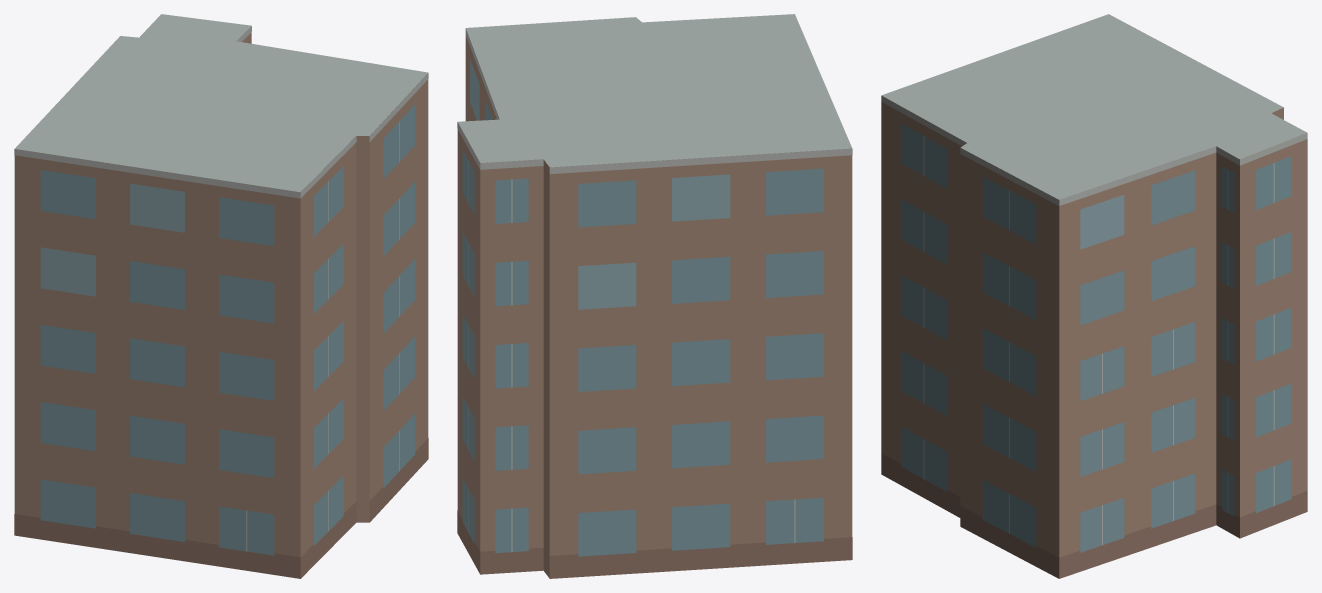
Rendered from survey-upis-32528450.glb.
3 views of the same model, side by side, from view 1: azimuth 30°, elevation 25°; view 2: azimuth 150°, elevation 25°; view 3: azimuth 270°, elevation 25° (orthographic). The views are drawn at different scales.
Visible parts, largest first — view 1: survey-upis-32528450.tmp; view 2: survey-upis-32528450.tmp; view 3: survey-upis-32528450.tmp.
Boxes of the visible parts, x1,y1,x2,y2 form: survey-upis-32528450.tmp: (14, 14, 428, 578); survey-upis-32528450.tmp: (457, 14, 852, 578); survey-upis-32528450.tmp: (881, 14, 1307, 578).
Size of the model in its own units: 15.74 by 14.95 by 15.25.
